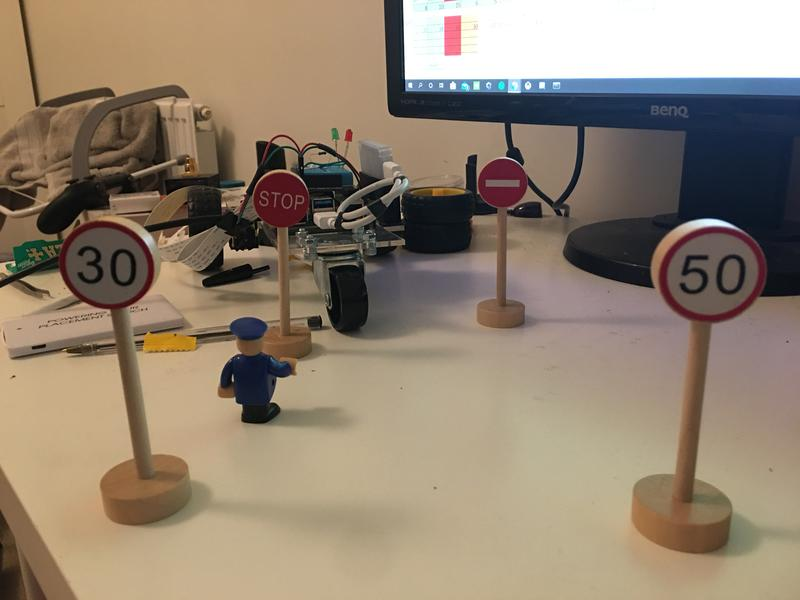Traffic_Sign_30: (61, 222, 154, 309)
Traffic_Sign_50: (659, 227, 766, 323)
Traffic_Sign_No_Entry: (478, 158, 525, 206)
Traffic_Sign_Stop: (254, 171, 308, 226)
person: (213, 315, 299, 427)
